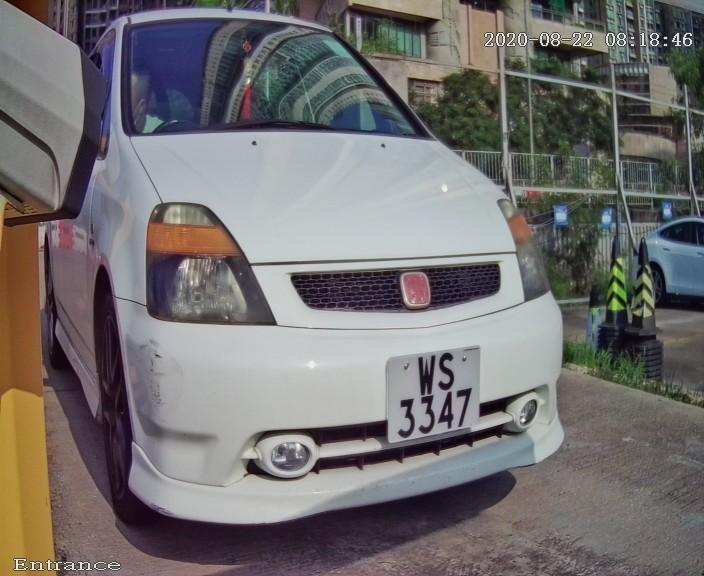License Plate: (365, 330, 503, 463)
